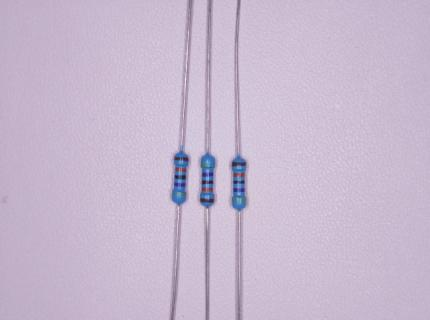Black band: (174, 175, 186, 180), (233, 180, 245, 184), (202, 180, 213, 184)
Brown band: (174, 156, 189, 162), (200, 198, 214, 203), (232, 162, 246, 167)
Orange band: (175, 167, 187, 172), (202, 187, 213, 192), (233, 173, 245, 177)
Violet band: (174, 182, 186, 187), (233, 188, 245, 193), (202, 172, 213, 177)
Yellow band: (201, 163, 215, 167), (172, 192, 186, 196), (232, 198, 246, 202)
